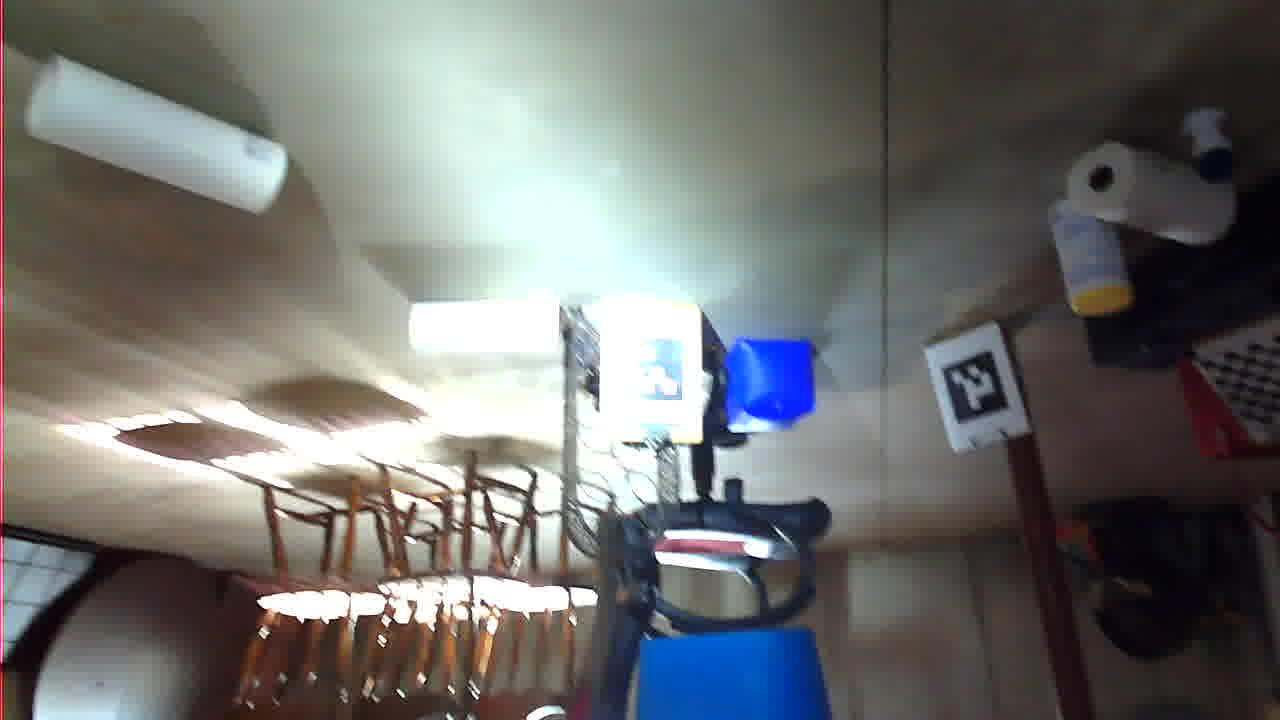coral: (994, 506, 1252, 665), (723, 365, 867, 418)
